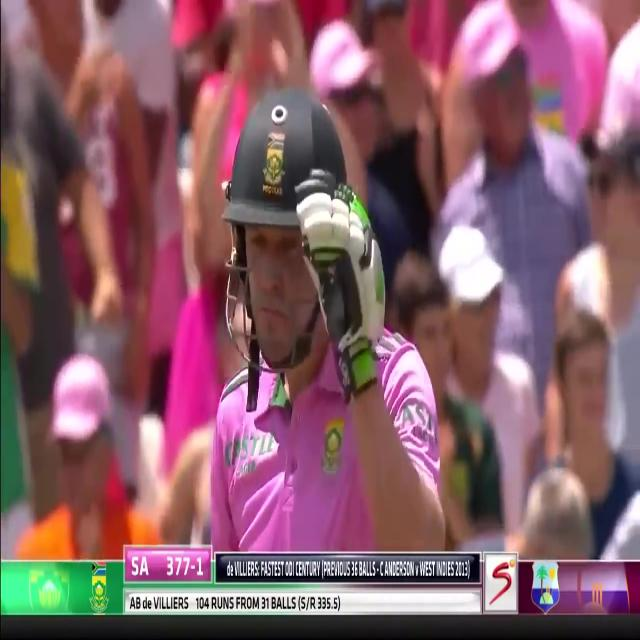Ball: (190, 80, 456, 554)
